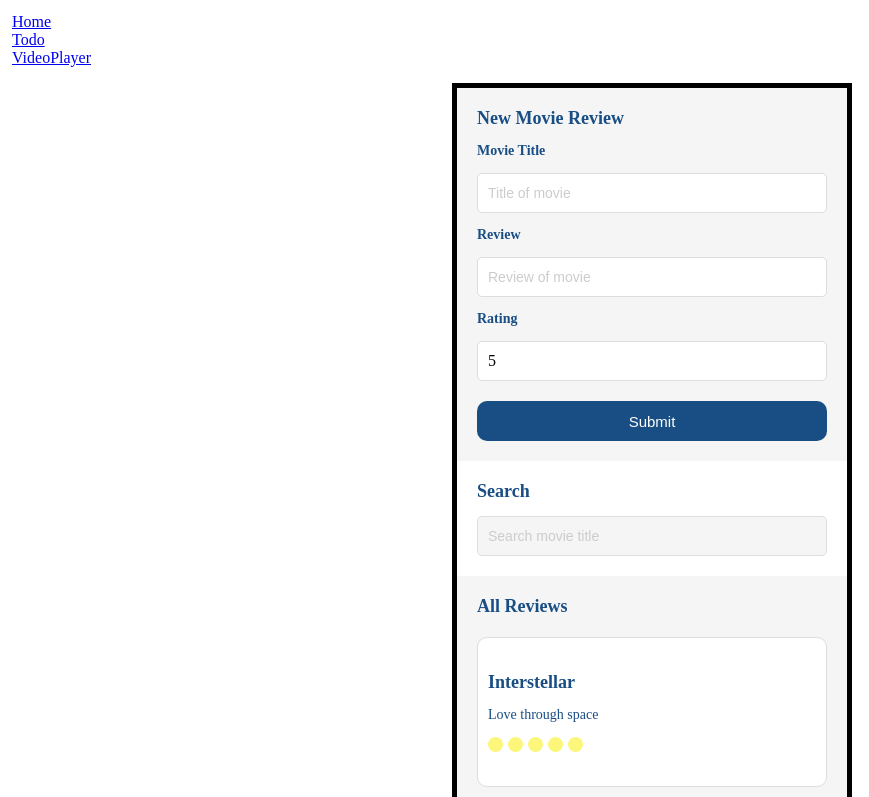
Test: Movie review app › should search for a movie by title
Type "Shrek" into the field with placeholder "Search movie title" at (652, 536), box left=477, top=516, right=827, bottom=556
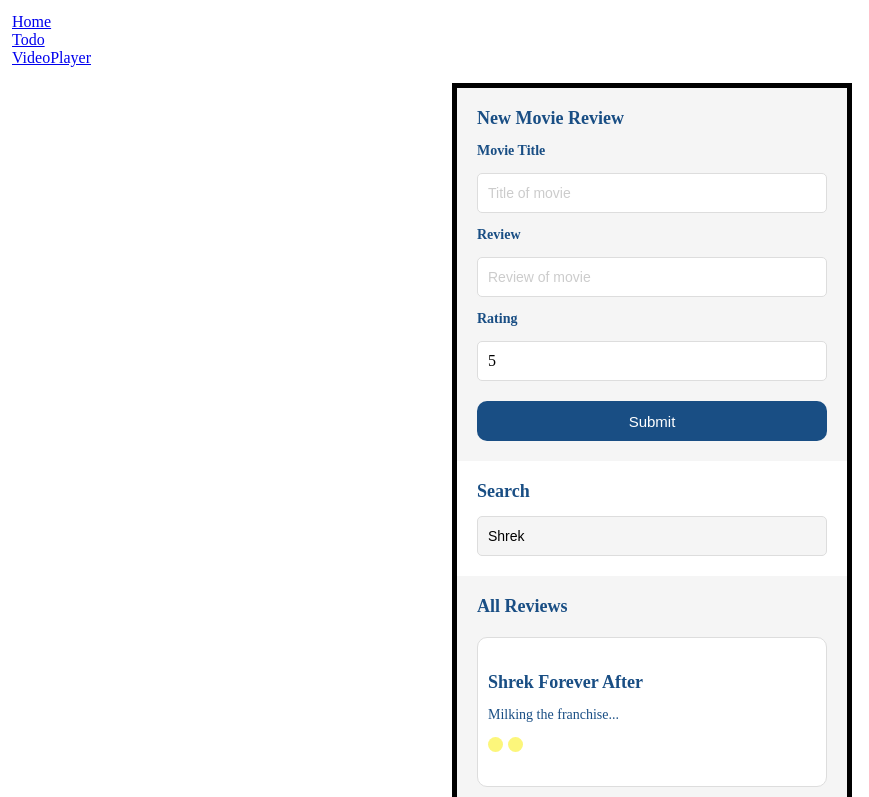
Expected: the heading "Shrek Forever After" is shown, left=488, top=672, right=643, bottom=692
Expected: the number of elements with test id "review-card" is 1, left=477, top=637, right=827, bottom=787
